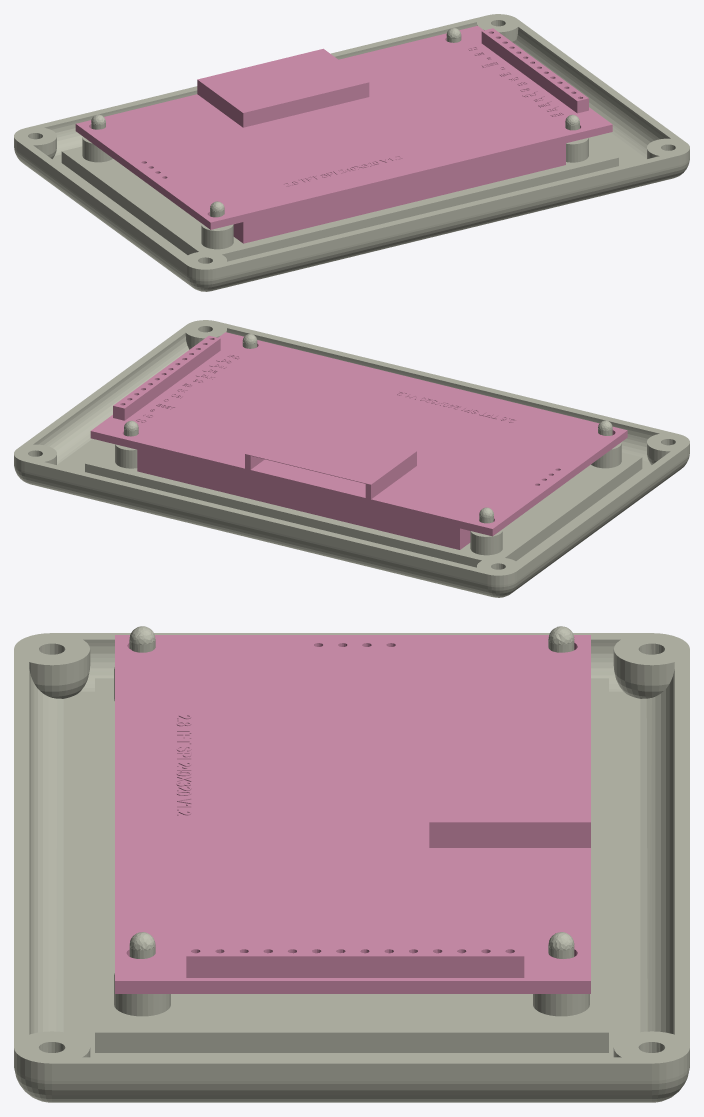
File: bezel.glb
3 renders of one model, top to bottom at view 1: azimuth 30°, elevation 25°; view 2: azimuth 150°, elevation 25°; view 3: azimuth 270°, elevation 25°, orthographic. The views are drawn at different scales.
Visible parts, largest first — view 1: Mesh_Mesh_head_geo.001_lambert2SG.001; view 2: Mesh_Mesh_head_geo.001_lambert2SG.001; view 3: Mesh_Mesh_head_geo.001_lambert2SG.001.
Part boxes in pixels (x1,y1,x2,y2): Mesh_Mesh_head_geo.001_lambert2SG.001: (14, 14, 689, 291); Mesh_Mesh_head_geo.001_lambert2SG.001: (14, 320, 689, 597); Mesh_Mesh_head_geo.001_lambert2SG.001: (14, 626, 689, 1102).
Size of the model in its own units: 107 by 12.94 by 71.
